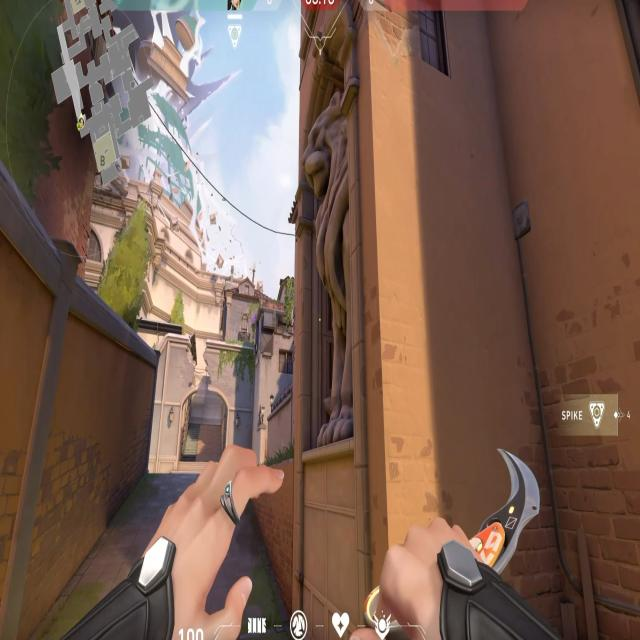Lion_Corner: (271, 106, 378, 508)
